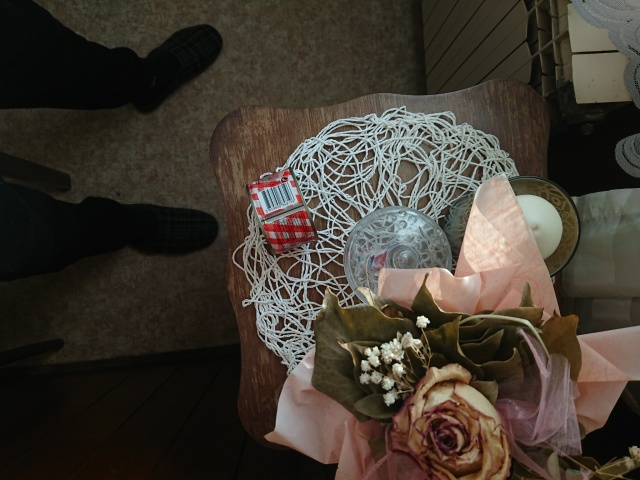Podravka Luncheon Meat 150g: (244, 164, 322, 258)
